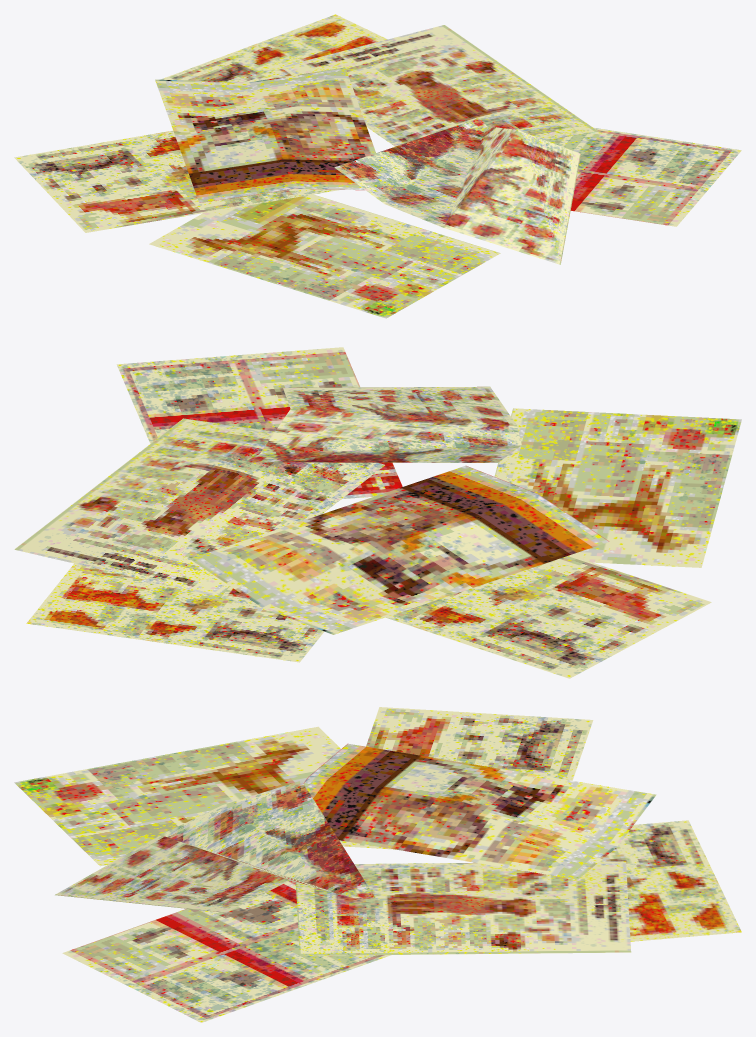
Rendered from PileOfPapers.fbx.
The picture shows the model from 3 angles, top to bottom: view 1: azimuth 30°, elevation 25°; view 2: azimuth 150°, elevation 25°; view 3: azimuth 270°, elevation 25°; orthographic projection. The views are drawn at different scales.
Visible parts, largest first — view 1: Plane.001; view 2: Plane.001; view 3: Plane.001.
Boxes of the visible parts, <box> form: Plane.001: <box>14,14,741,318</box>; Plane.001: <box>14,347,741,678</box>; Plane.001: <box>14,707,741,1022</box>.
Bounding box in the file's own units: 3.38 × 0.2534 × 3.29.
1 material, 1 textured.
